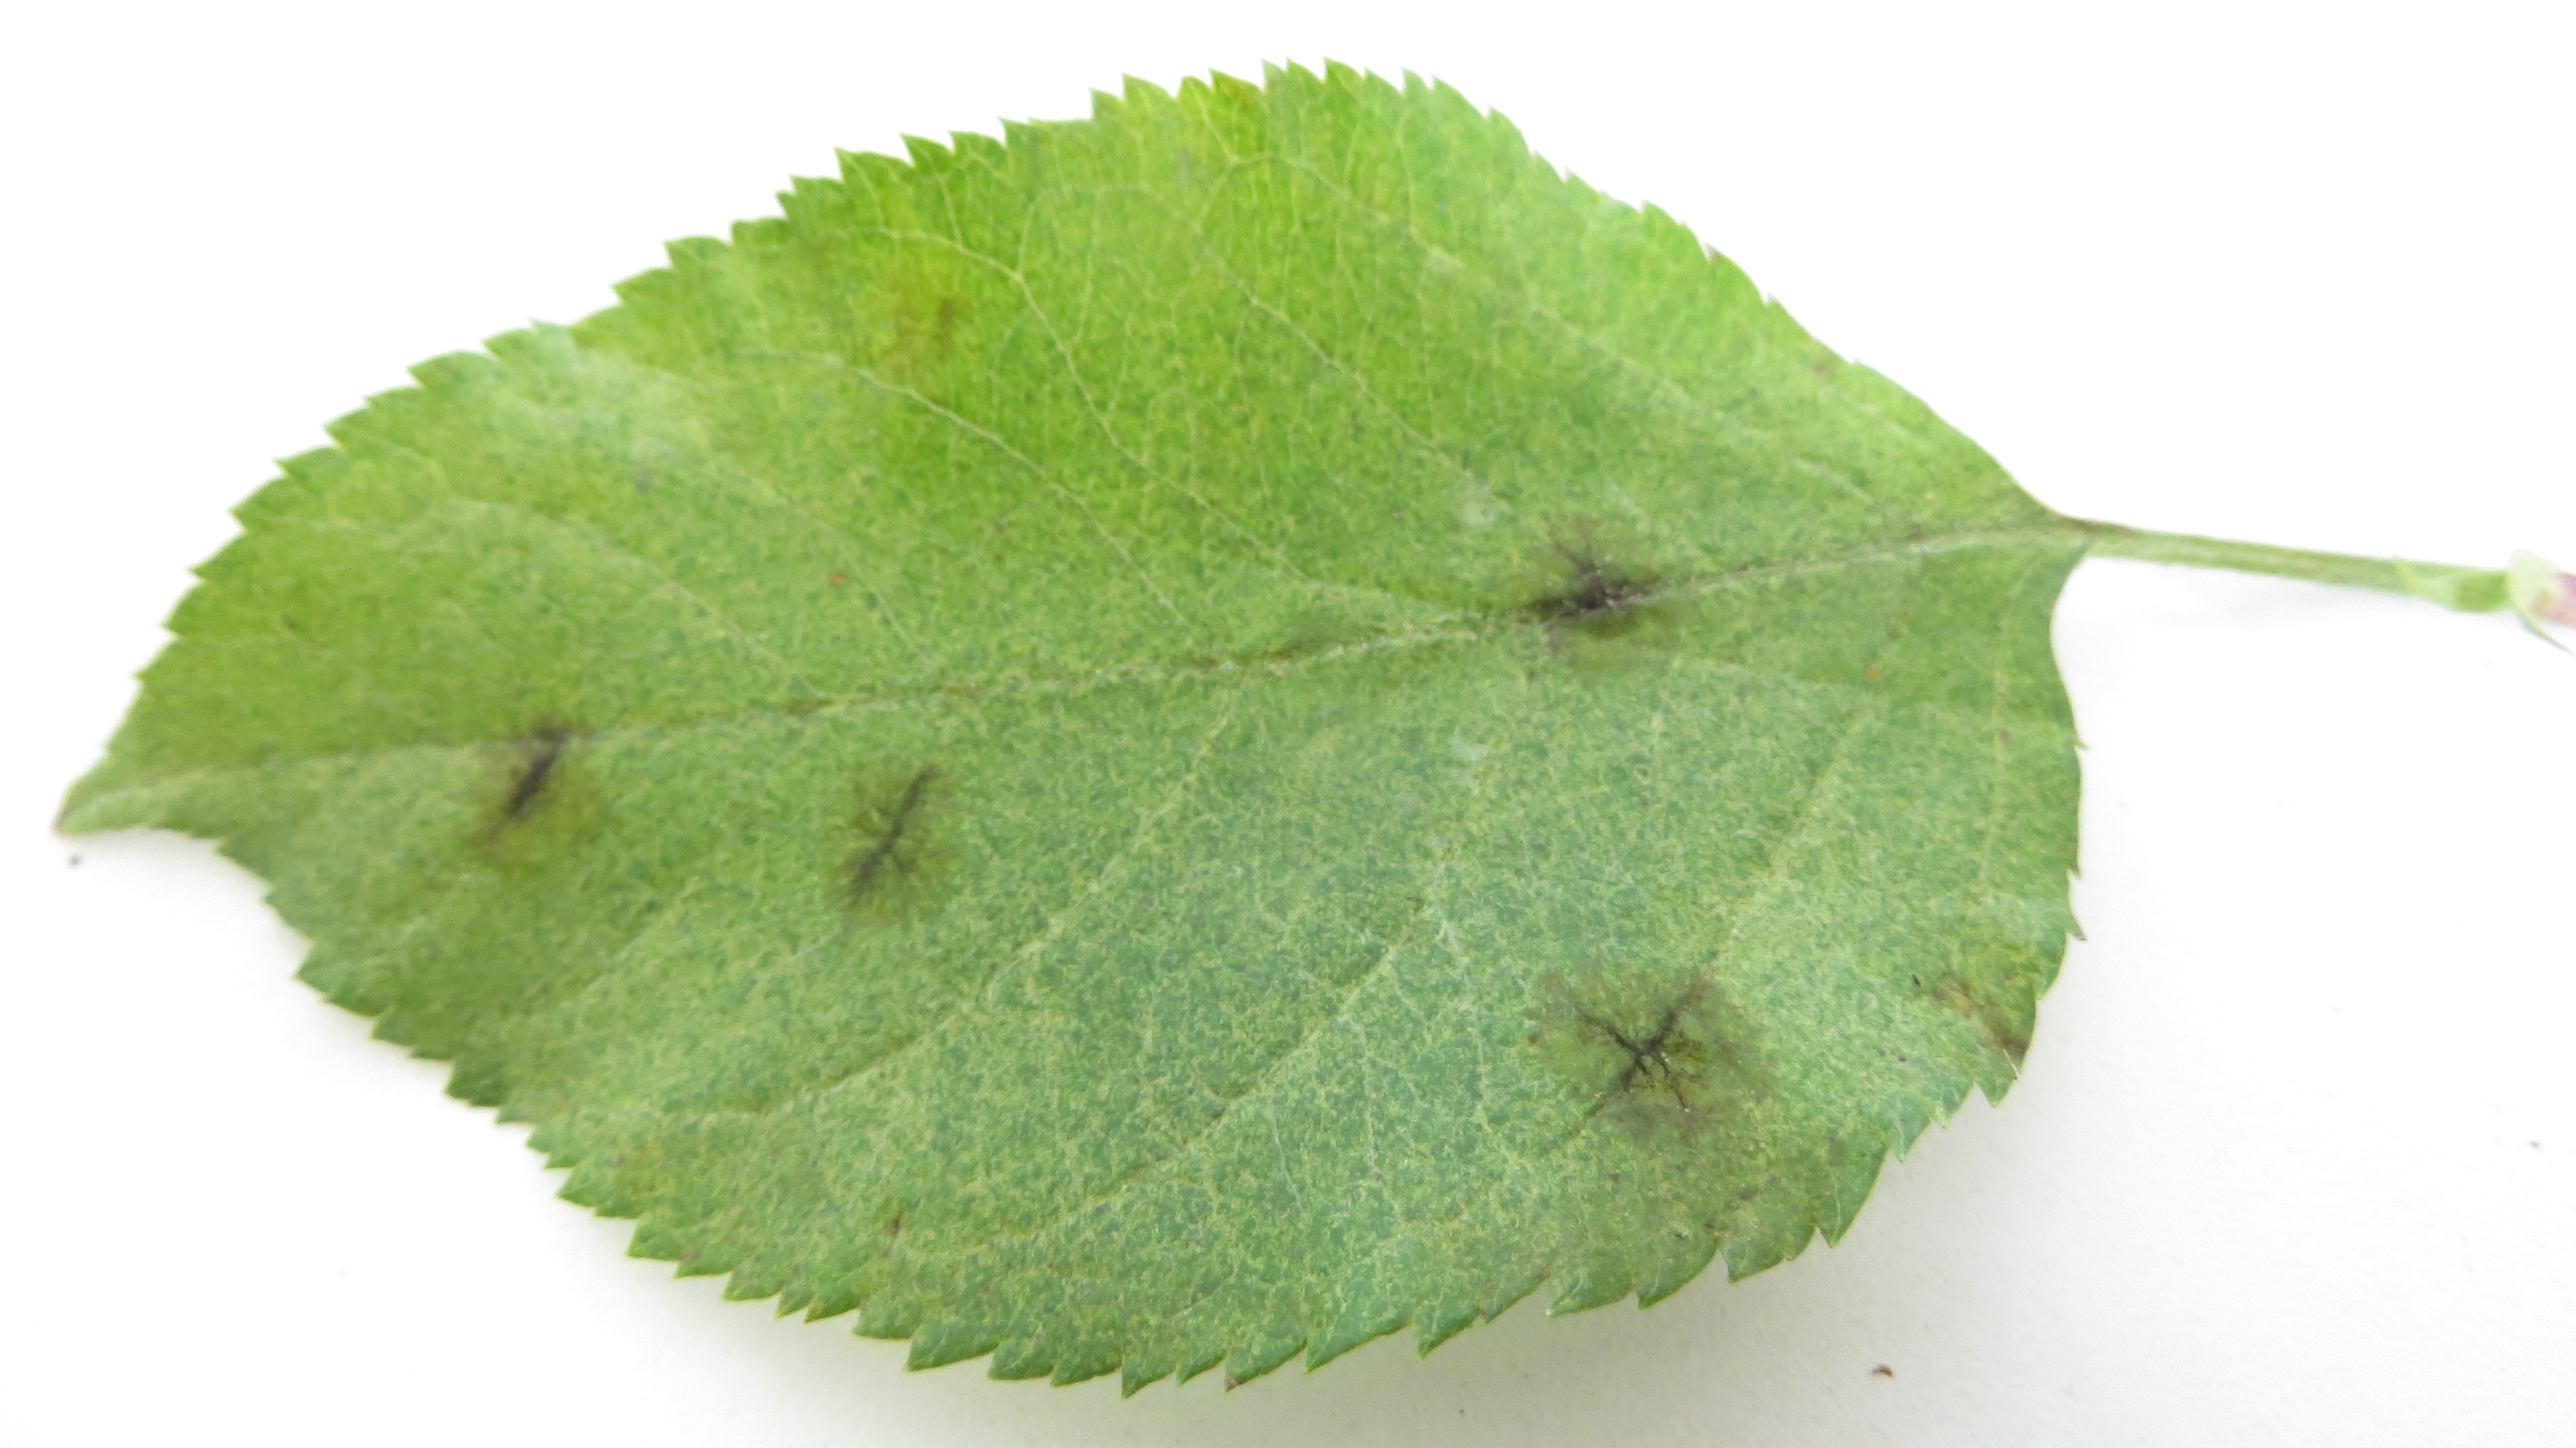sarna: (1520, 963, 1780, 1154), (1507, 512, 1686, 676), (817, 756, 966, 926), (456, 701, 605, 866), (869, 269, 993, 384), (1932, 958, 2042, 1080)
